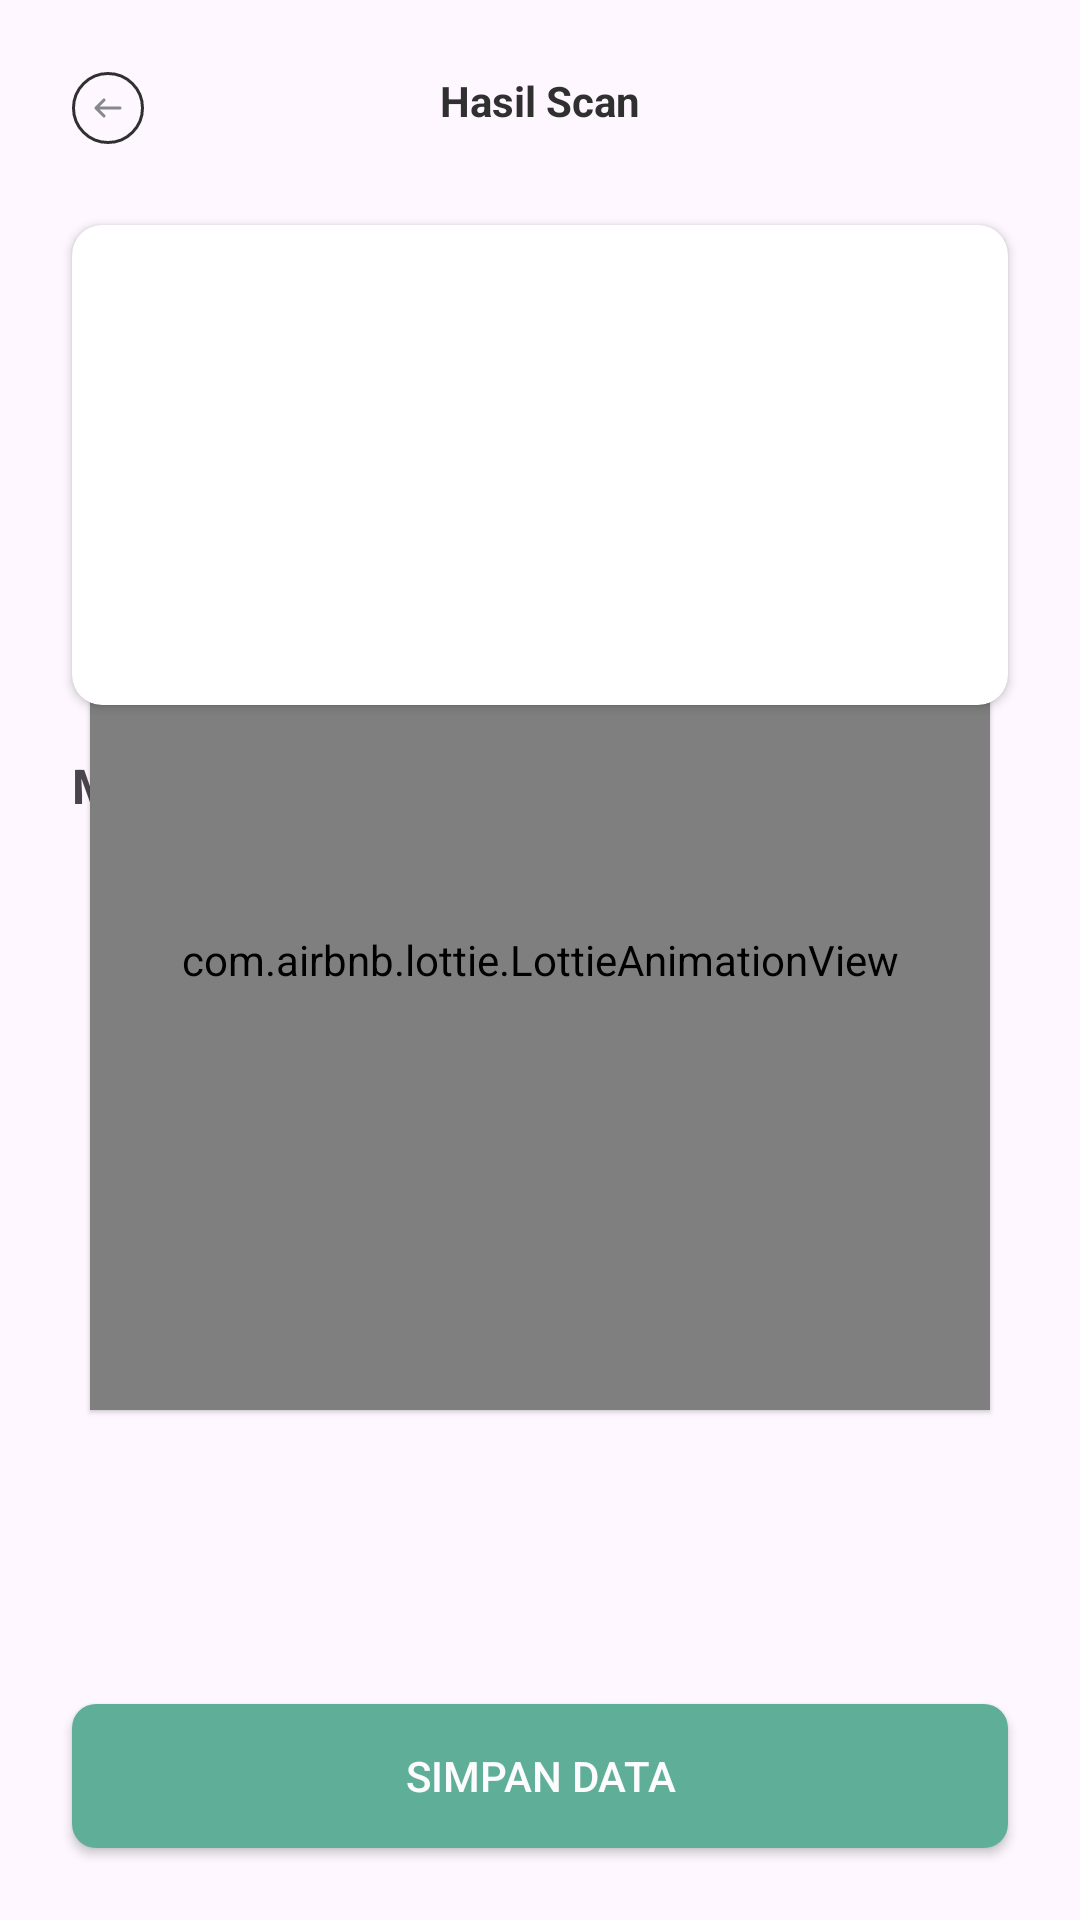

Screen size 1080×1920. Icon name, then its box in pixels as detection(x1, y1, x2, y2):
Kembali: detection(72, 72, 144, 144)
